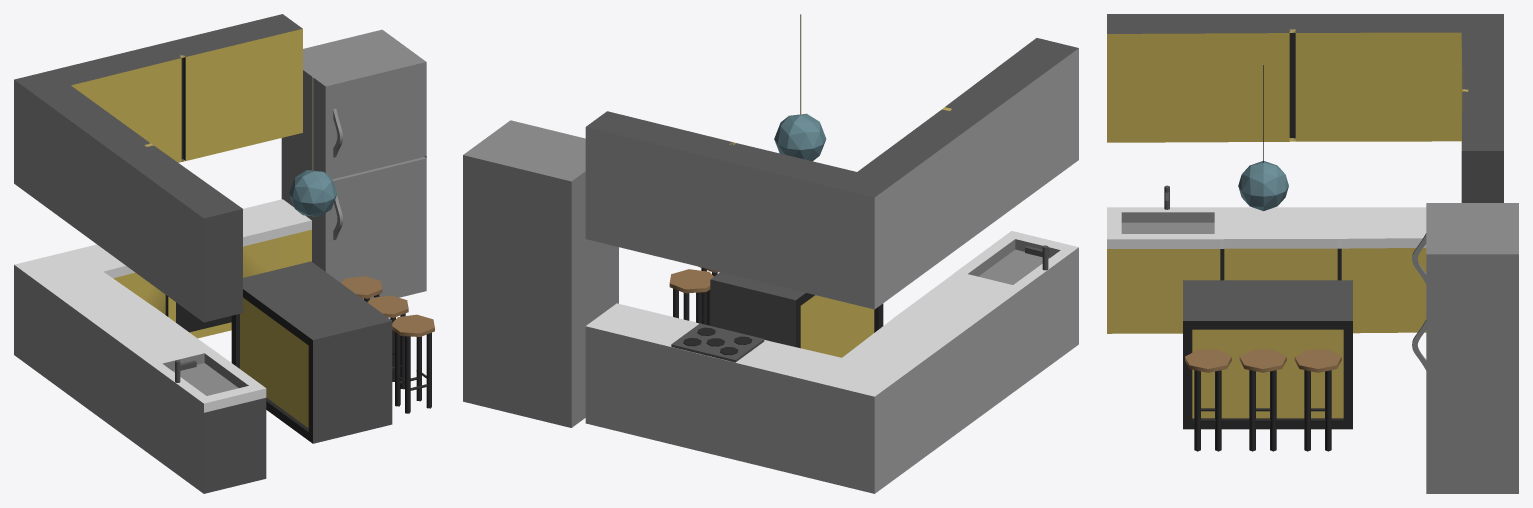
File: KitchenEdit.fbx
3 renders of one model, left to right at view 1: azimuth 30°, elevation 25°; view 2: azimuth 150°, elevation 25°; view 3: azimuth 270°, elevation 25°, orthographic. The views are drawn at different scales.
Visible parts, largest first — view 1: Kitchen_1278:Box004; view 2: Kitchen_1278:Box004; view 3: Kitchen_1278:Box004.
Part boxes in pixels (x1,y1,x2,y2): Kitchen_1278:Box004: (14, 14, 434, 493); Kitchen_1278:Box004: (463, 14, 1078, 493); Kitchen_1278:Box004: (1107, 14, 1518, 493).
Bounding box in the file's own units: 49.05 × 41.05 × 44.57.
